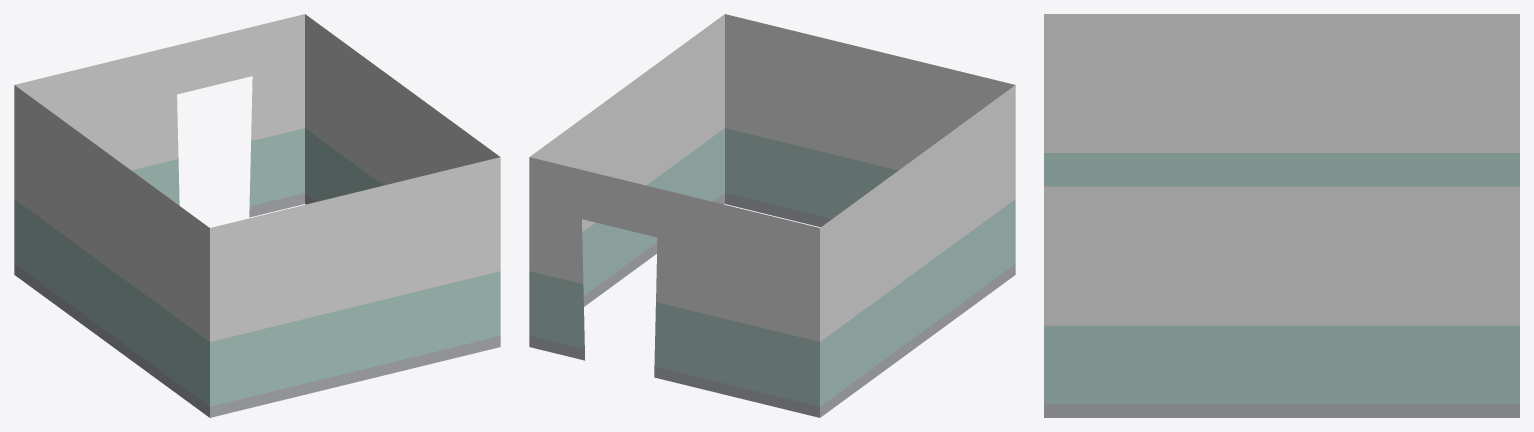
The model's file is Walls.fbx.
The picture shows the model from 3 angles, left to right: view 1: azimuth 30°, elevation 25°; view 2: azimuth 150°, elevation 25°; view 3: azimuth 270°, elevation 25°; orthographic projection. The views are drawn at different scales.
Parts seen in each view (by area): view 1: Walls; view 2: Walls; view 3: Walls.
Part boxes in pixels (bbox=[...]): Walls: bbox=[14, 14, 500, 417]; Walls: bbox=[529, 14, 1015, 417]; Walls: bbox=[1044, 14, 1519, 417].
Bounding box in the file's own units: 4.23 × 2.64 × 4.93.
